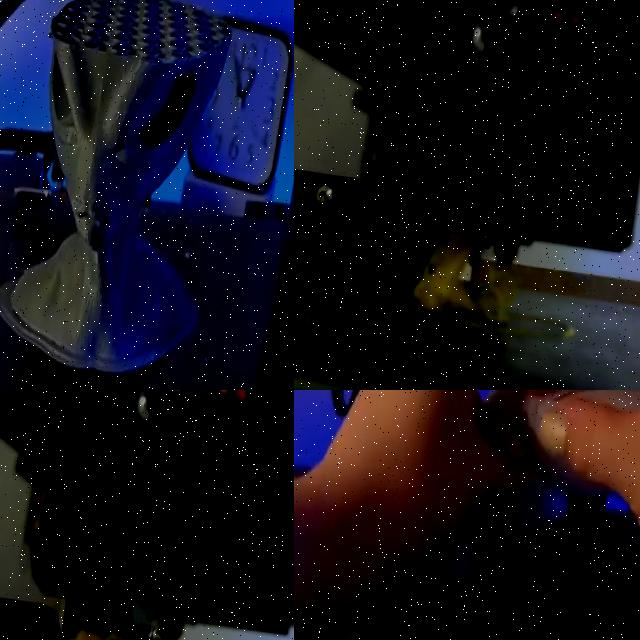spaghetti: (413, 225, 518, 323)
